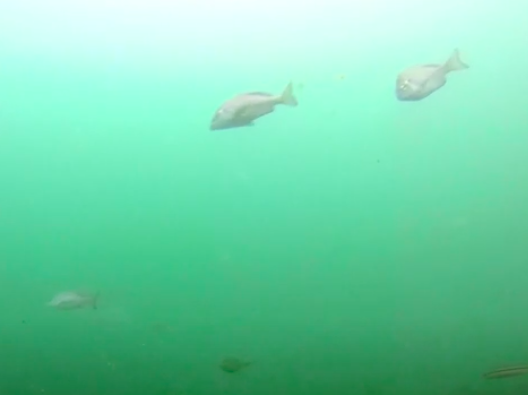smallfish: (195, 74, 313, 132)
tai: (390, 46, 470, 108)
